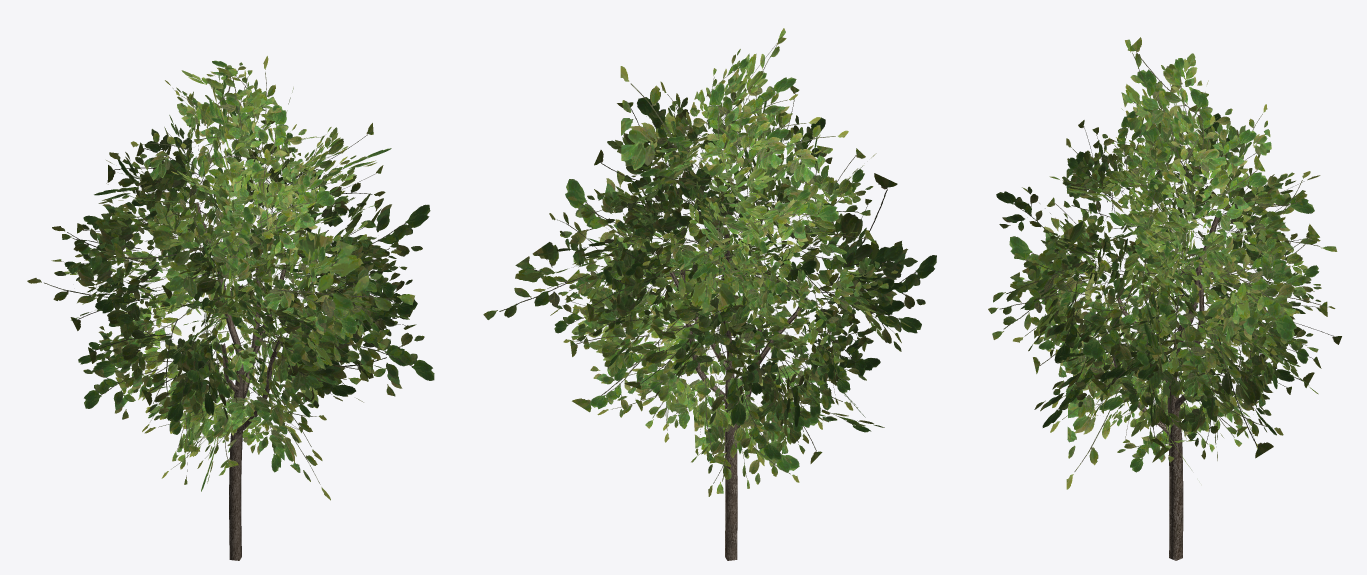
The model's file is tree_pear_v1_l1.glb.
3 views of the same model, side by side, from view 1: azimuth 30°, elevation 25°; view 2: azimuth 150°, elevation 25°; view 3: azimuth 270°, elevation 25° (orthographic). The views are drawn at different scales.
Visible parts, largest first — view 1: tree_pear_v1_l1; view 2: tree_pear_v1_l1; view 3: tree_pear_v1_l1.
Boxes of the visible parts, x1=… form: tree_pear_v1_l1: x1=27, y1=56, x2=434, y2=560; tree_pear_v1_l1: x1=483, y1=28, x2=936, y2=560; tree_pear_v1_l1: x1=988, y1=37, x2=1341, y2=560.
Bounding box in the file's own units: 7.62 × 9.79 × 6.52.
2 materials, 2 textured.
